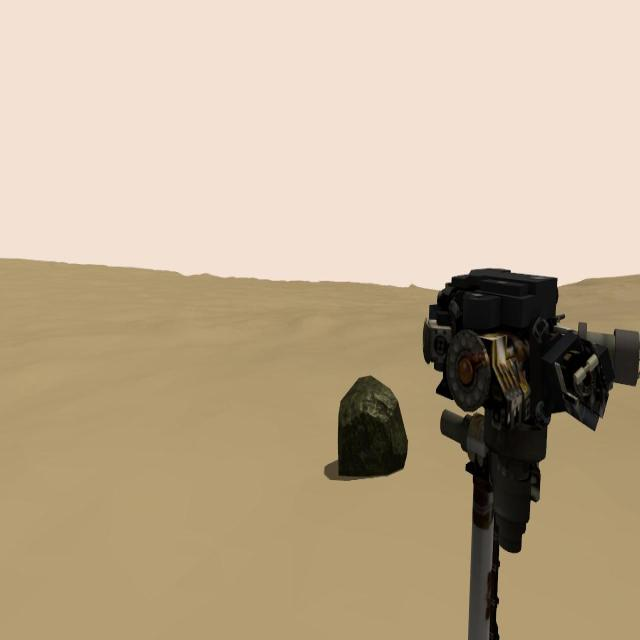rock: (338, 376, 408, 477)
